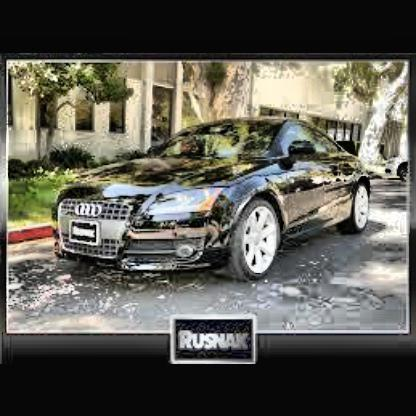Audi TTS Coupe 2012: (53, 116, 374, 283)
